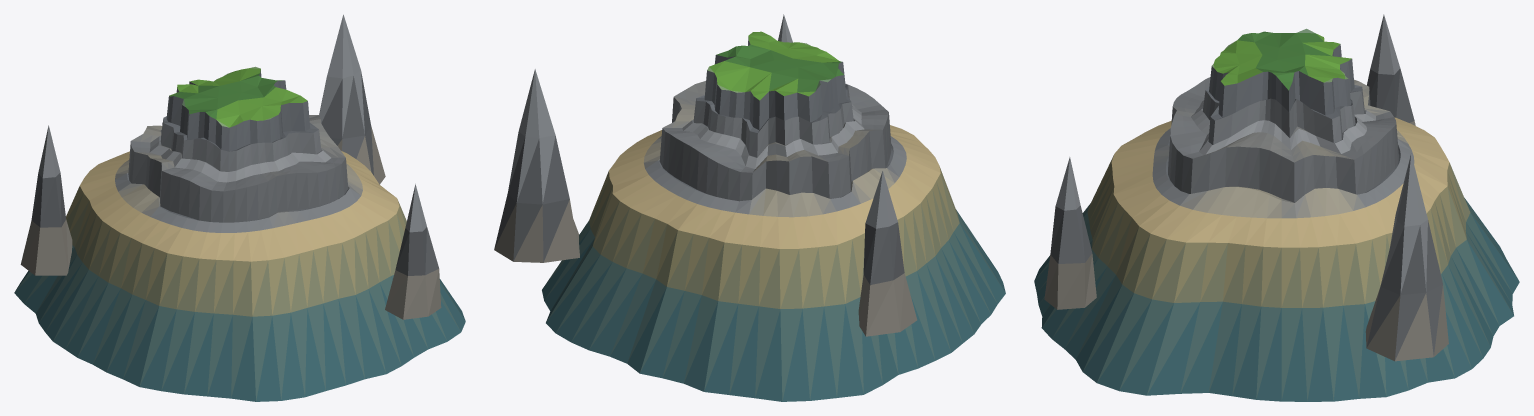
File: islet_06.glb
The picture shows the model from 3 angles, left to right: view 1: azimuth 30°, elevation 25°; view 2: azimuth 150°, elevation 25°; view 3: azimuth 270°, elevation 25°; orthographic projection. The views are drawn at different scales.
Visible parts, largest first — view 1: islet_06; view 2: islet_06; view 3: islet_06.
Part boxes in pixels (x1,y1,x2,y2): islet_06: (14,14,465,401); islet_06: (494,14,1005,401); islet_06: (1034,14,1519,401).
Bounding box in the file's own units: 14.28 × 8.58 × 14.23.
